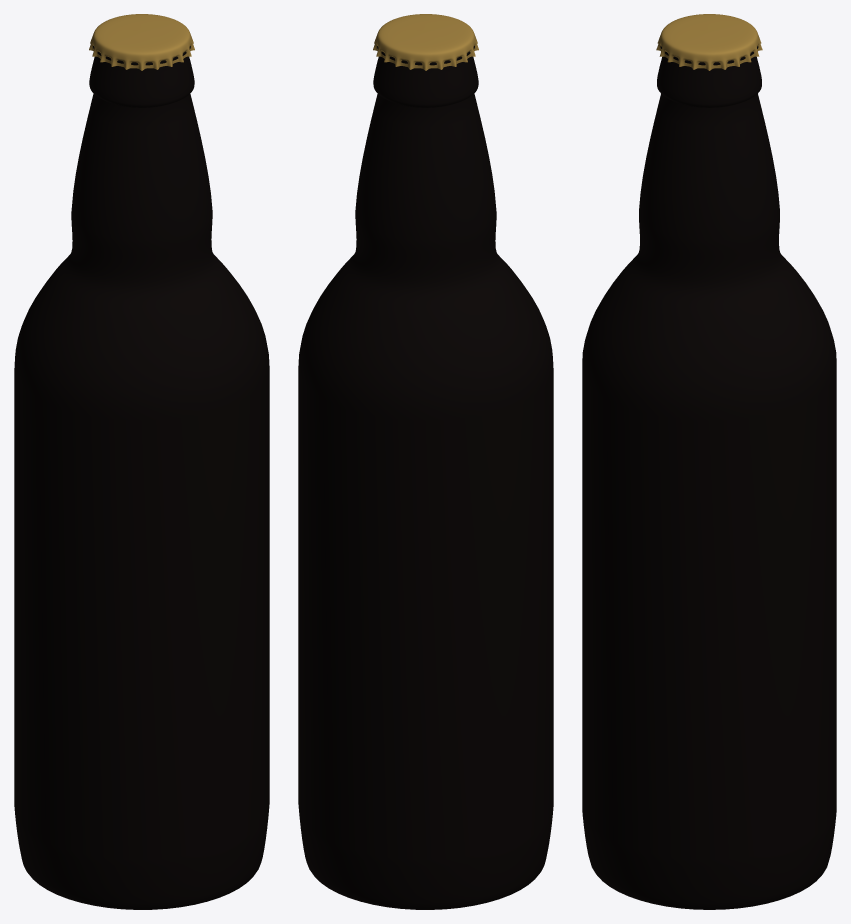
Rendered from beer_bottle_old.fbx.
The picture shows the model from 3 angles, left to right: view 1: azimuth 30°, elevation 25°; view 2: azimuth 150°, elevation 25°; view 3: azimuth 270°, elevation 25°; orthographic projection.
Visible parts, largest first — view 1: bottle, cap; view 2: bottle, cap; view 3: bottle, cap.
Boxes of the visible parts, x1=… form: bottle: x1=14, y1=46, x2=269, y2=909; cap: x1=89, y1=14, x2=194, y2=70; bottle: x1=298, y1=46, x2=553, y2=909; cap: x1=373, y1=14, x2=478, y2=70; bottle: x1=582, y1=46, x2=836, y2=909; cap: x1=656, y1=14, x2=762, y2=70.
Bounding box in the file's own units: 7.23 × 25.9 × 7.22.
